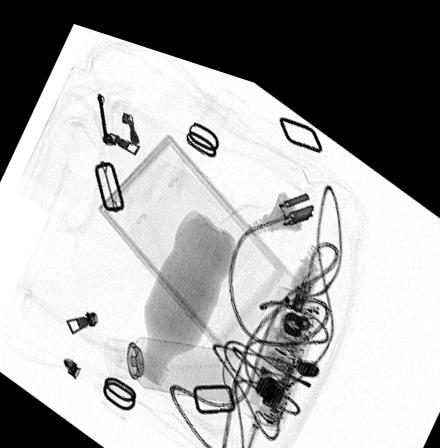Sprayer: (101, 327, 285, 396)
